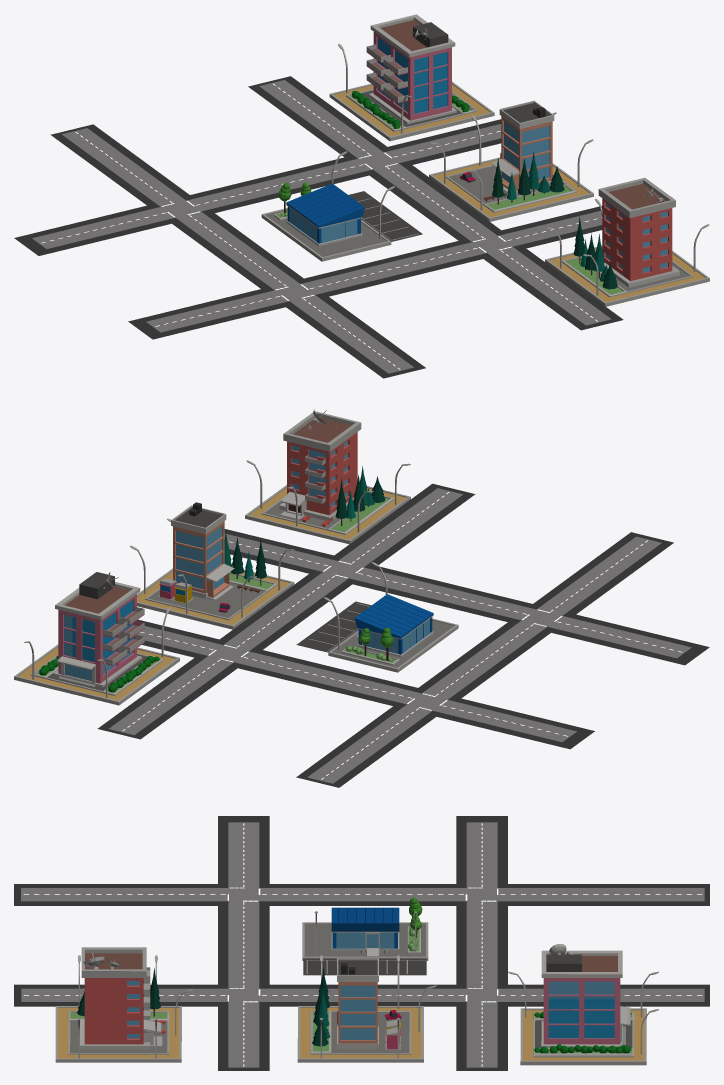
The model's file is scene_raw_w_houses.gltf.
3 renders of one model, top to bottom at view 1: azimuth 30°, elevation 25°; view 2: azimuth 150°, elevation 25°; view 3: azimuth 270°, elevation 25°, orthographic. The views are drawn at different scales.
Visible parts, largest first — view 1: House, House_2, House_3, Shop001, Plane_52, Plane_53, Plane_51, Plane_10, Plane_54, Plane_25, Floor_3, Floor (+52 smaller); view 2: House, House_2, House_3, Shop001, Plane_52, Plane_53, Plane_54, Plane_10, Plane_51, Plane_25, Floor, Plane_55 (+49 smaller); view 3: House, House_2, House_3, Shop001, Plane_52, Plane_9, Plane_55, Plane_25, Plane_54, Floor_3, Plane_51, Floor_2 (+54 smaller).
Part boxes in pixels (x1=…): House: x1=366, y1=14, x2=456, y2=124; House_2: x1=598, y1=177, x2=679, y2=287; House_3: x1=491, y1=100, x2=554, y2=193; Shop001: x1=286, y1=183, x2=364, y2=246; Plane_52: x1=50, y1=124, x2=275, y2=268; Plane_53: x1=248, y1=76, x2=472, y2=219; Plane_51: x1=233, y1=258, x2=425, y2=378; Plane_10: x1=430, y1=210, x2=623, y2=330; Plane_54: x1=128, y1=263, x2=392, y2=339; Plane_25: x1=14, y1=179, x2=278, y2=255; Floor_3: x1=429, y1=157, x2=593, y2=221; Floor: x1=329, y1=81, x2=494, y2=141; House: x1=53, y1=572, x2=144, y2=687; House_2: x1=279, y1=411, x2=361, y2=521; House_3: x1=171, y1=502, x2=234, y2=600; Shop001: x1=354, y1=594, x2=433, y2=657; Plane_52: x1=296, y1=643, x2=523, y2=787; Plane_53: x1=97, y1=594, x2=323, y2=739; Plane_54: x1=443, y1=588, x2=709, y2=665; Plane_10: x1=281, y1=483, x2=475, y2=604; Plane_51: x1=480, y1=532, x2=673, y2=652; Plane_25: x1=330, y1=672, x2=594, y2=749; Floor: x1=14, y1=644, x2=179, y2=705; Plane_55: x1=224, y1=529, x2=469, y2=606; House: x1=541, y1=950, x2=630, y2=1047; House_2: x1=80, y1=947, x2=162, y2=1049; House_3: x1=337, y1=958, x2=378, y2=1048; Shop001: x1=331, y1=907, x2=399, y2=956; Plane_52: x1=326, y1=884, x2=709, y2=905; Plane_9: x1=456, y1=938, x2=507, y2=1070; Plane_55: x1=218, y1=938, x2=269, y2=1070; Plane_25: x1=456, y1=816, x2=507, y2=938; Plane_54: x1=218, y1=816, x2=269, y2=938; Floor_3: x1=297, y1=1006, x2=423, y2=1062; Plane_51: x1=14, y1=884, x2=328, y2=905; Floor_2: x1=55, y1=1006, x2=181, y2=1062.
Bounding box in the file's own units: 116 × 21.31 × 134.
9 materials, 4 textured.
